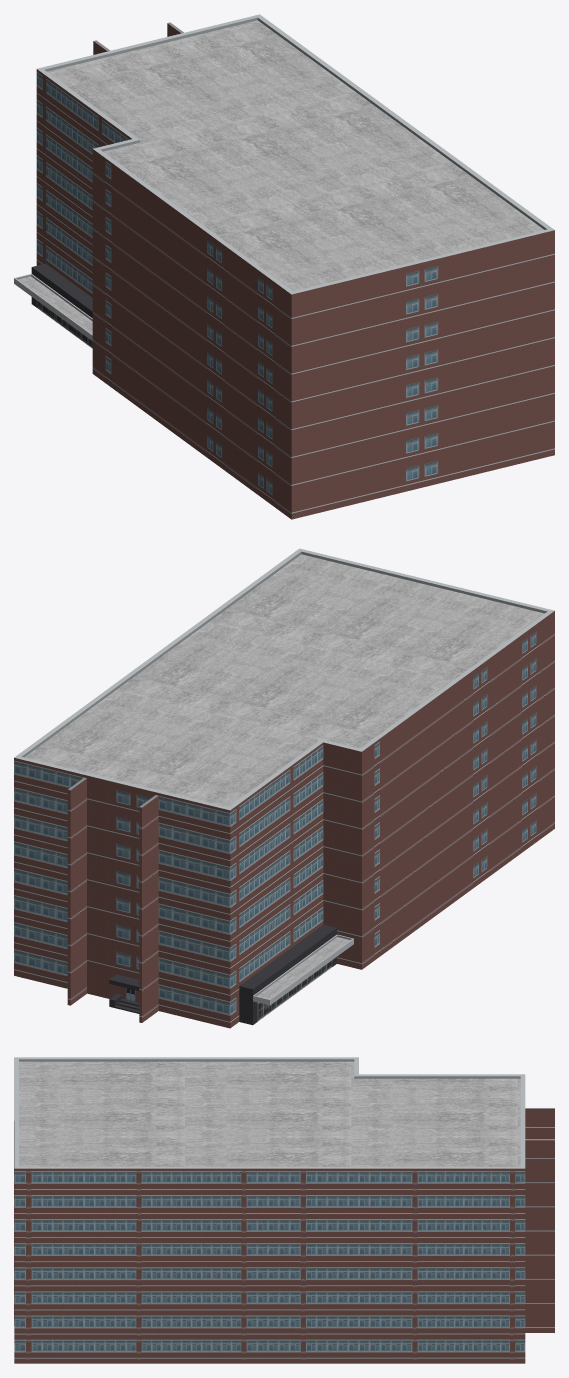
The model's file is build.obj.
The picture shows the model from 3 angles, top to bottom: view 1: azimuth 30°, elevation 25°; view 2: azimuth 150°, elevation 25°; view 3: azimuth 270°, elevation 25°; orthographic projection. The views are drawn at different scales.
Parts seen in each view (by area): view 1: jz0055; view 2: jz0055; view 3: jz0055.
Part boxes in pixels (bbox=[...]): jz0055: bbox=[14, 14, 554, 519]; jz0055: bbox=[14, 548, 554, 1028]; jz0055: bbox=[14, 1057, 554, 1363].
Size of the model in its own units: 29.78 by 24.36 by 61.09.
